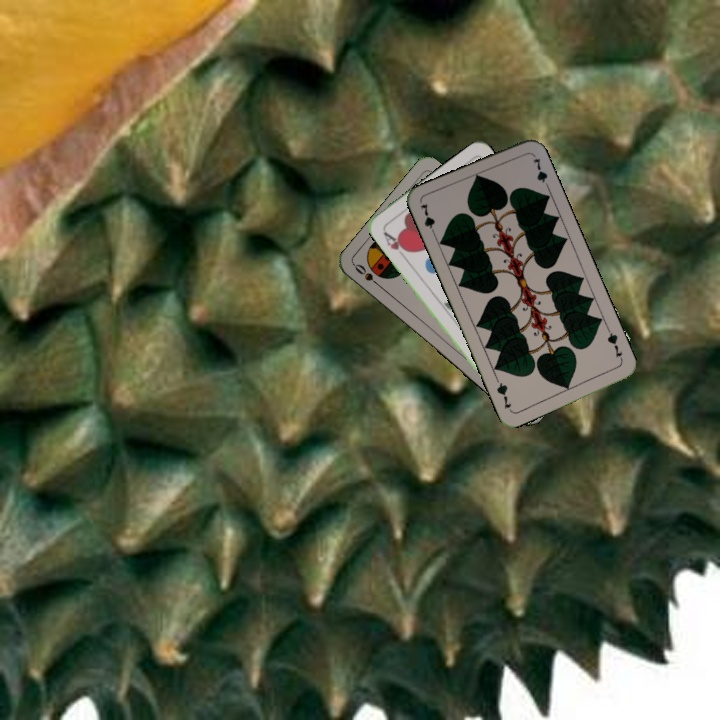G7: (416, 199, 439, 239), (603, 325, 626, 364)
HA: (379, 227, 412, 261)
SO: (350, 260, 385, 291)
